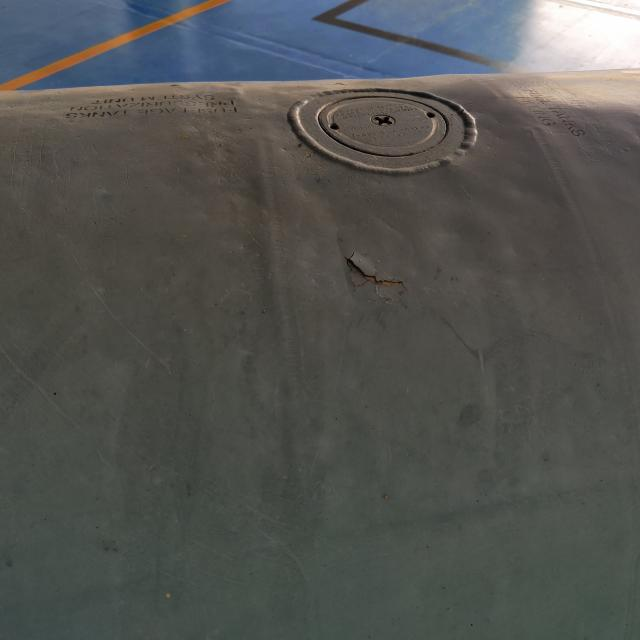crack: (335, 248, 416, 312)
